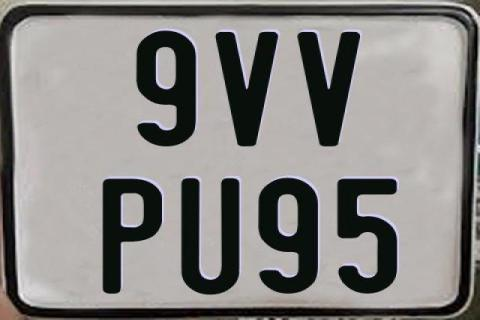0: (258, 176, 324, 296), (135, 29, 200, 149), (338, 179, 401, 295)
P: (100, 178, 161, 296)
U: (180, 176, 242, 294)
V: (297, 32, 364, 150), (216, 31, 284, 147)
